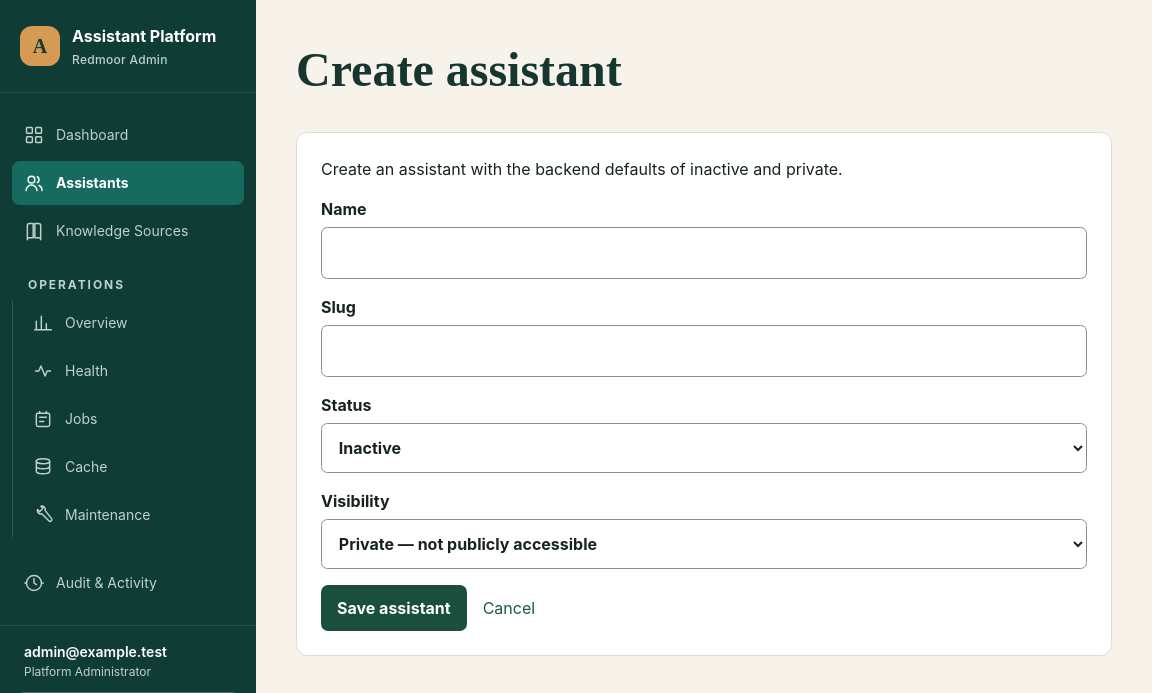
Test: administrator application workflows › returns to the assistants page after creating an assistant
Type "Legal review" into the field labelled "Name" at [704, 253], box [321, 227, 1087, 279]
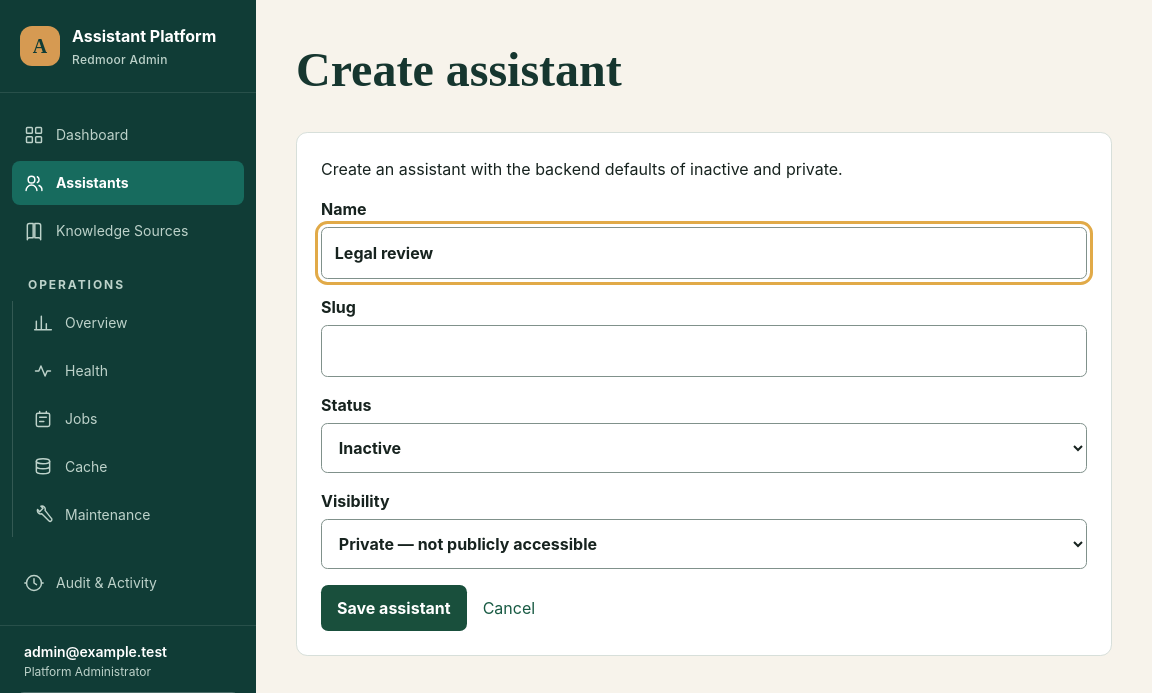
Type "legal-review" into the field labelled "Slug" at [704, 351], box [321, 325, 1087, 377]
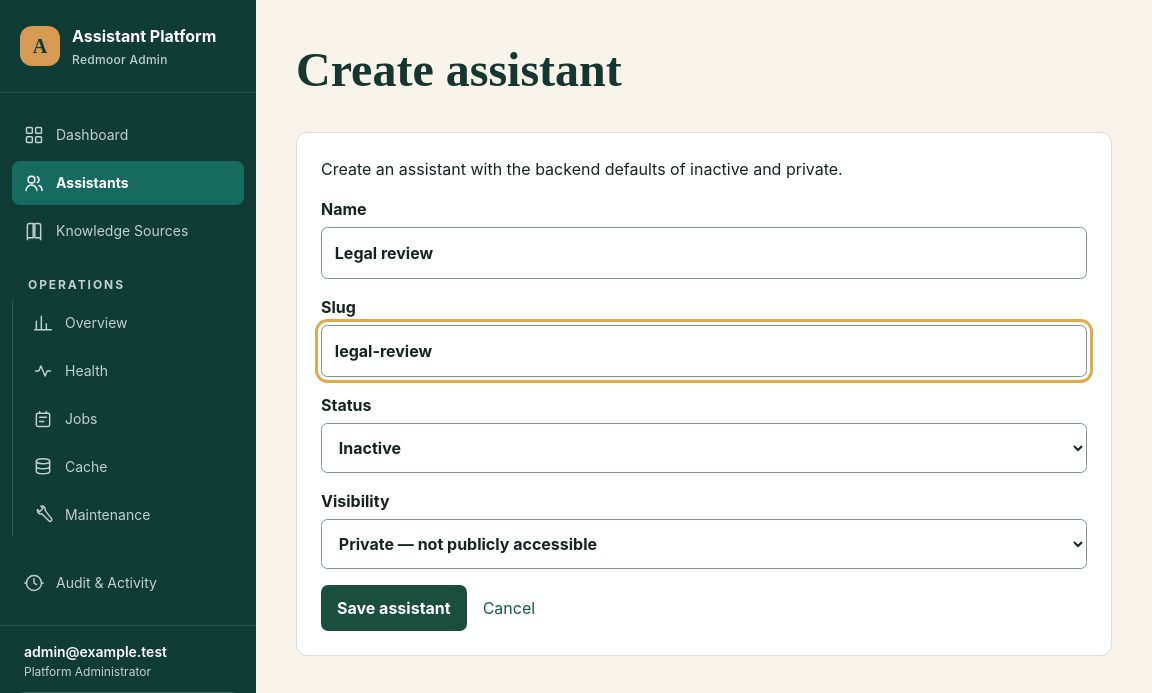
Click the button "Save assistant" at [394, 608], box [321, 585, 467, 631]
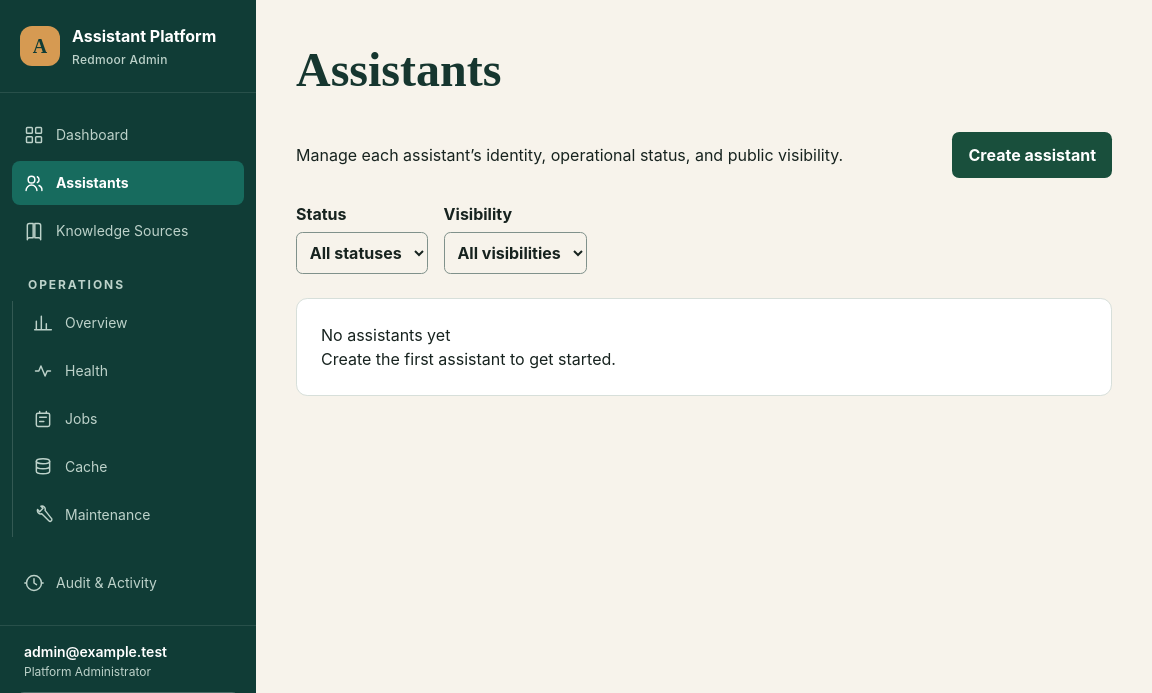
Now the heading "No assistants yet" is shown, box [321, 325, 450, 345]
